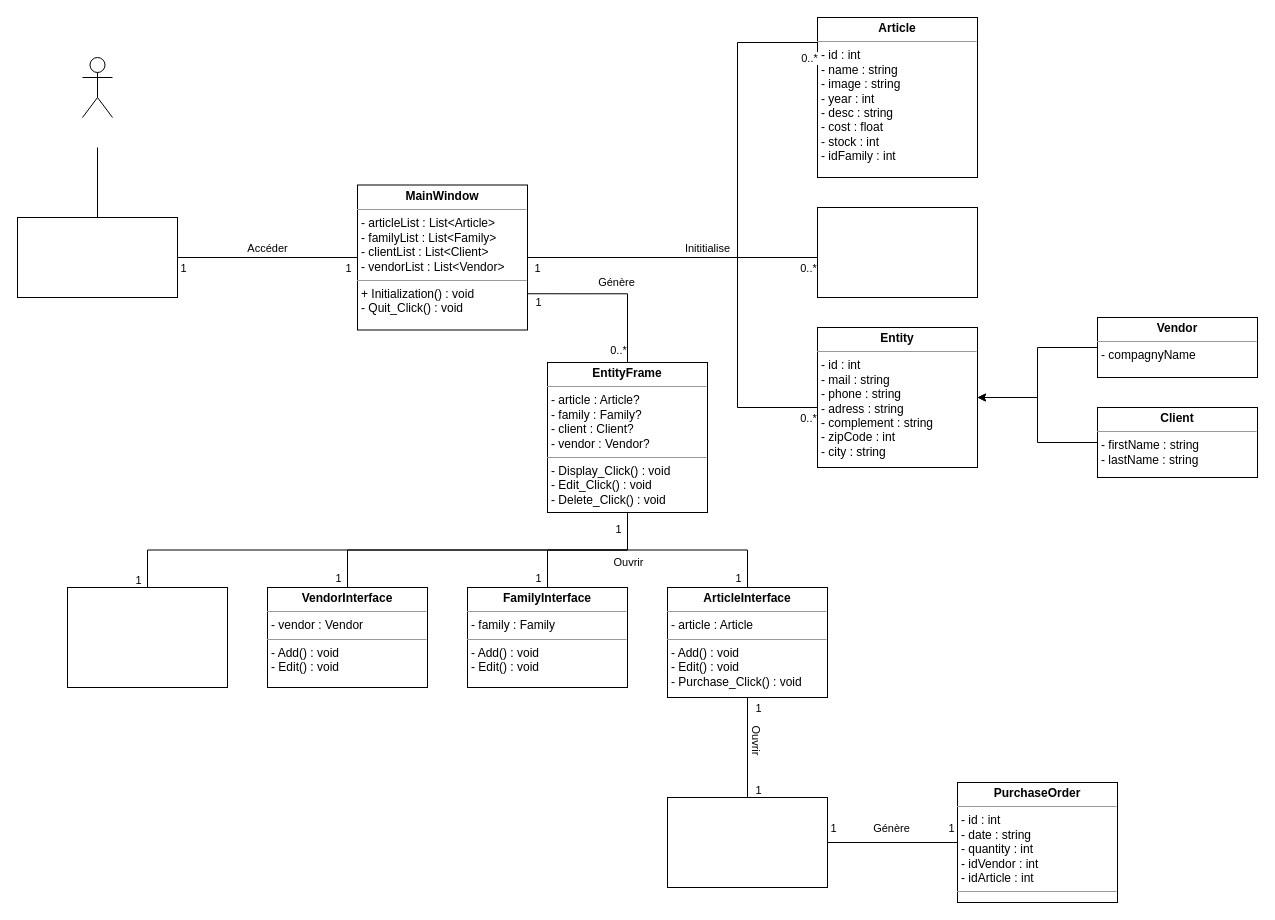
The diagram is 1275 pixels wide and 920 high, and some of its shapes have lost their labels. The box of each missing label's shape, as (x1, y1, x2, y2) in pixels:
ClientInterface - client : Client - Add() : void - Edit() : void: (66, 586, 228, 688)
Family - id : int - type : string - desc : string: (816, 206, 978, 298)
LoginInterface + Connect() : void: (16, 216, 178, 298)
OrderInterface - article : Article - Purchase_Click() : void: (666, 796, 828, 888)
Utilisateur: (82, 56, 112, 118)
